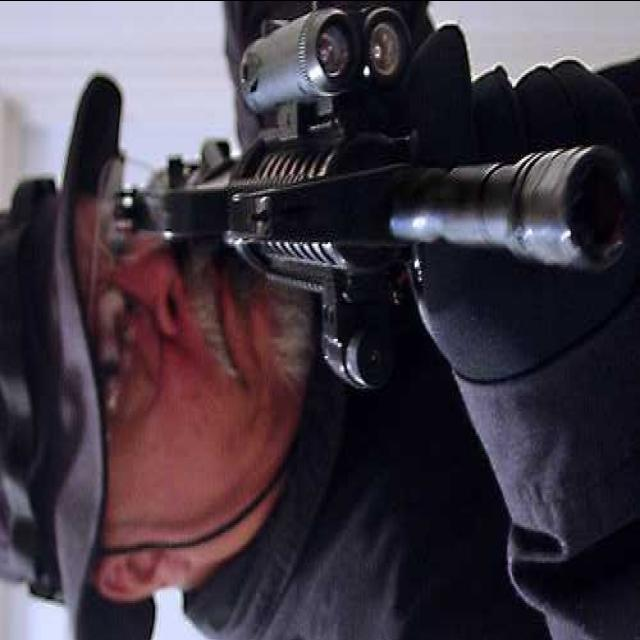heavyweapon: (104, 1, 639, 426)
